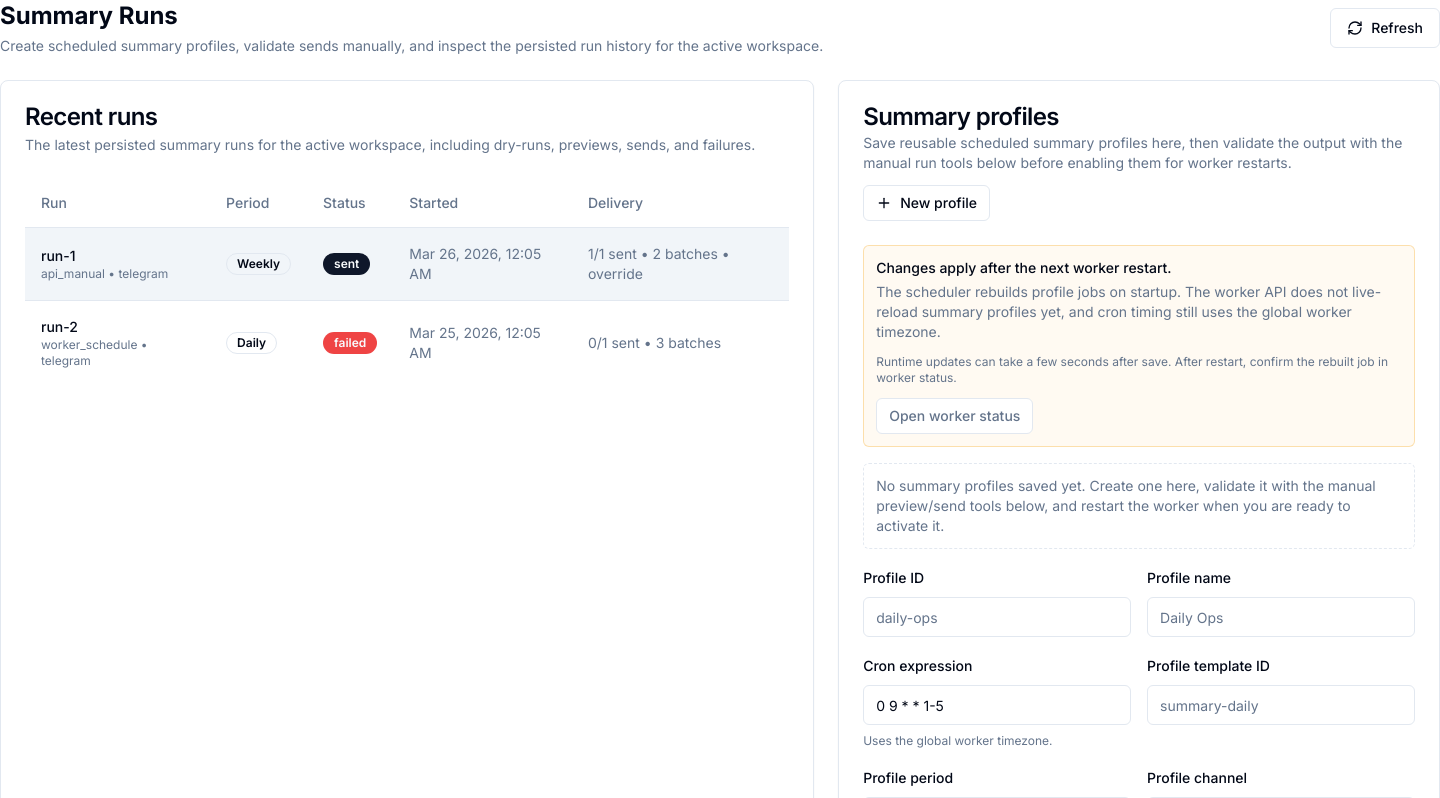
it: SummaryRunsPage › renders summary run history and detail with delivery audit metadata
The image size is (1440, 798).
Expected: the text "run-1" is shown, [41,246,76,264]
Click the text "run-2" at (60, 326), box [41,318,78,334]
(page scrolled)
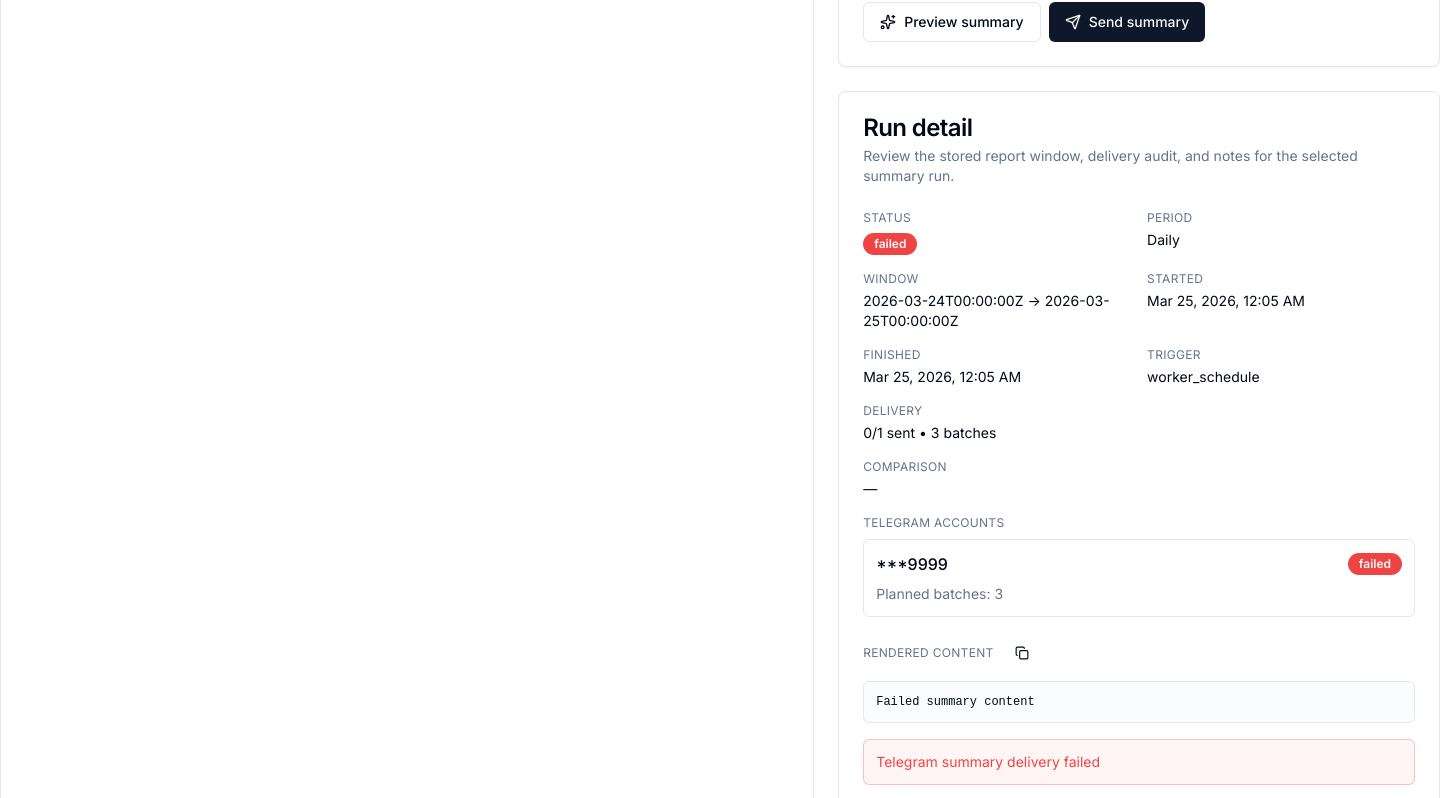
Now the text "***9999" is shown, box [876,552,948,576]
Now the text "Telegram summary delivery failed" is shown, box [863,739,1415,785]
